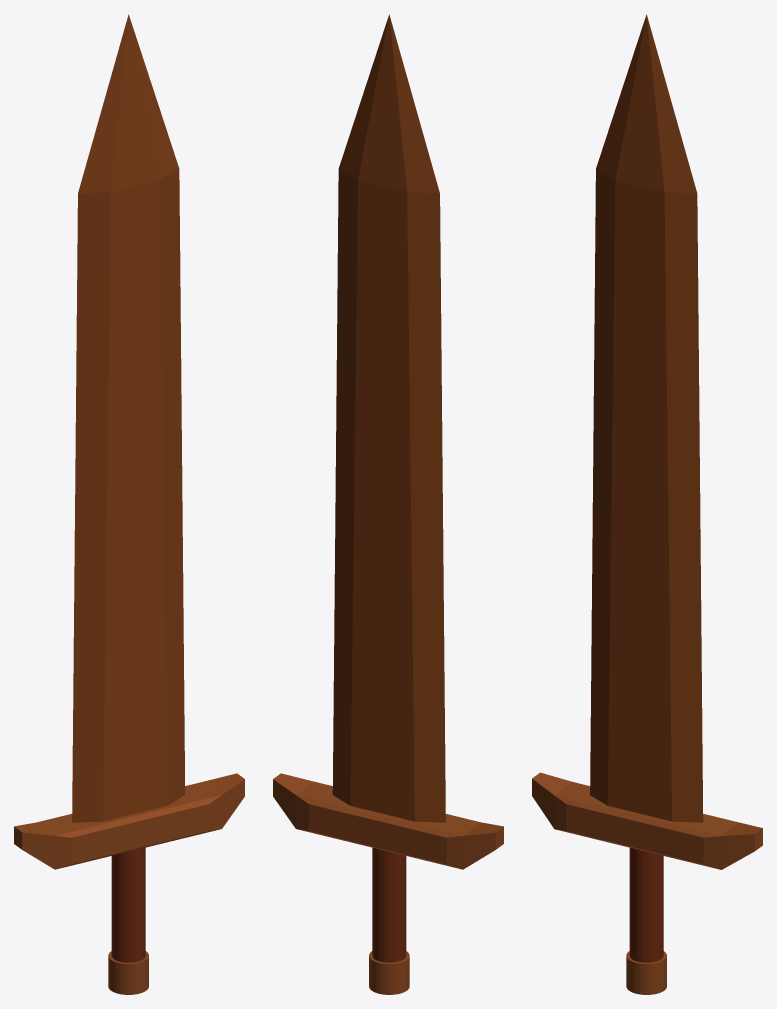
The model's file is wood_sword.glb.
3 views of the same model, side by side, from view 1: azimuth 30°, elevation 25°; view 2: azimuth 150°, elevation 25°; view 3: azimuth 330°, elevation 25° (orthographic).
Visible parts, largest first — view 1: Cube.001, Cube, Cylinder.001, Cylinder; view 2: Cube.001, Cube, Cylinder.001, Cylinder; view 3: Cube.001, Cube, Cylinder.001, Cylinder.
Boxes of the visible parts, bbox=[...] form: Cube.001: bbox=[72, 14, 185, 822]; Cube: bbox=[14, 773, 244, 869]; Cylinder.001: bbox=[111, 847, 145, 962]; Cylinder: bbox=[108, 951, 148, 994]; Cube.001: bbox=[332, 14, 445, 822]; Cube: bbox=[273, 773, 503, 869]; Cylinder.001: bbox=[372, 847, 406, 962]; Cylinder: bbox=[369, 951, 409, 994]; Cube.001: bbox=[590, 14, 703, 822]; Cube: bbox=[532, 772, 762, 869]; Cylinder.001: bbox=[629, 847, 663, 962]; Cylinder: bbox=[626, 951, 666, 994].
Bounding box in the file's own units: 1.6 × 6.65 × 0.2873.
